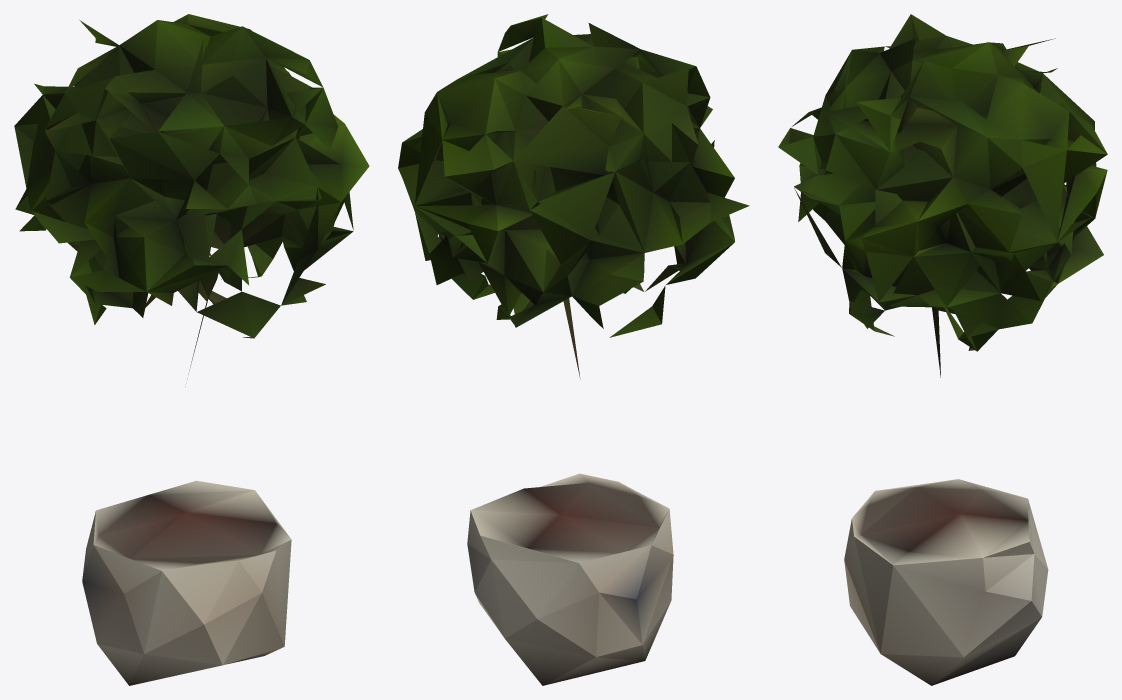
Rendered from lib_tp_camchau.vc2.glb.
3 renders of one model, left to right at view 1: azimuth 30°, elevation 25°; view 2: azimuth 150°, elevation 25°; view 3: azimuth 270°, elevation 25°, orthographic. The views are drawn at different scales.
Parts seen in each view (by area): view 1: lib_tp_camchau; view 2: lib_tp_camchau; view 3: lib_tp_camchau.
Boxes of the visible parts, x1,y1,x2,y2 form: lib_tp_camchau: (14, 14, 369, 685); lib_tp_camchau: (398, 14, 749, 685); lib_tp_camchau: (778, 14, 1107, 685).
Size of the model in its own units: 0.8697 by 1.77 by 0.8529.
